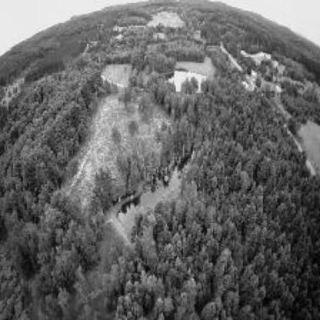other: (158, 61, 254, 97)
